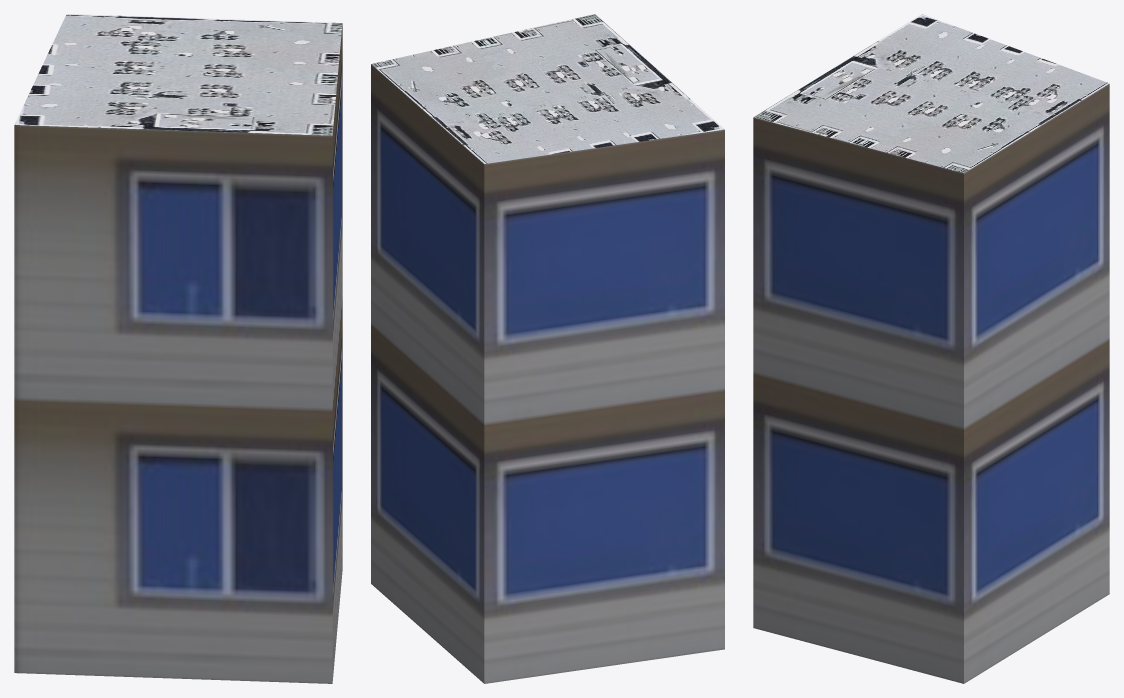
The model's file is ResTex__864.fbx.
3 renders of one model, left to right at view 1: azimuth 30°, elevation 25°; view 2: azimuth 150°, elevation 25°; view 3: azimuth 270°, elevation 25°, orthographic. The views are drawn at different scales.
Visible parts, largest first — view 1: CityEngineMaterial_23_m, CityEngineMaterial_m; view 2: CityEngineMaterial_23_m, CityEngineMaterial_m; view 3: CityEngineMaterial_23_m, CityEngineMaterial_m.
Part boxes in pixels (x1,y1,x2,y2): CityEngineMaterial_23_m: (14, 23, 342, 683); CityEngineMaterial_m: (14, 14, 342, 135); CityEngineMaterial_23_m: (371, 64, 724, 683); CityEngineMaterial_m: (371, 14, 724, 163); CityEngineMaterial_23_m: (753, 84, 1109, 683); CityEngineMaterial_m: (753, 14, 1109, 173).
Size of the model in its own units: 4.01 by 6 by 3.8.
2 materials, 2 textured.
